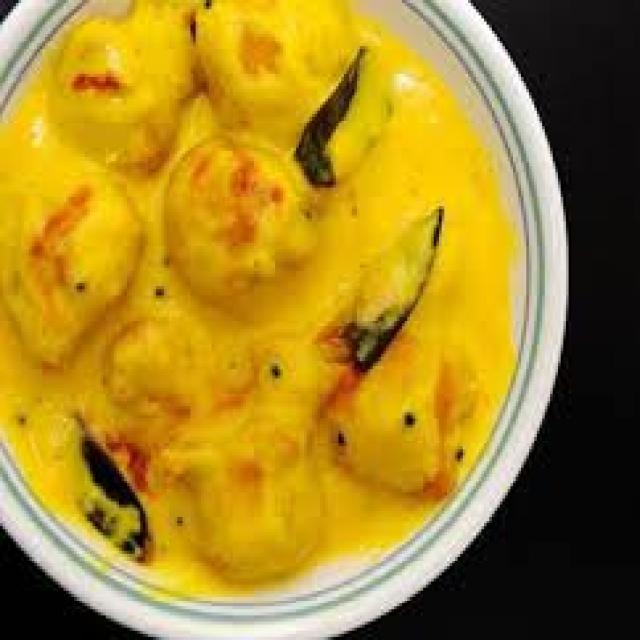Kadhi Pakora: (2, 1, 517, 588)
